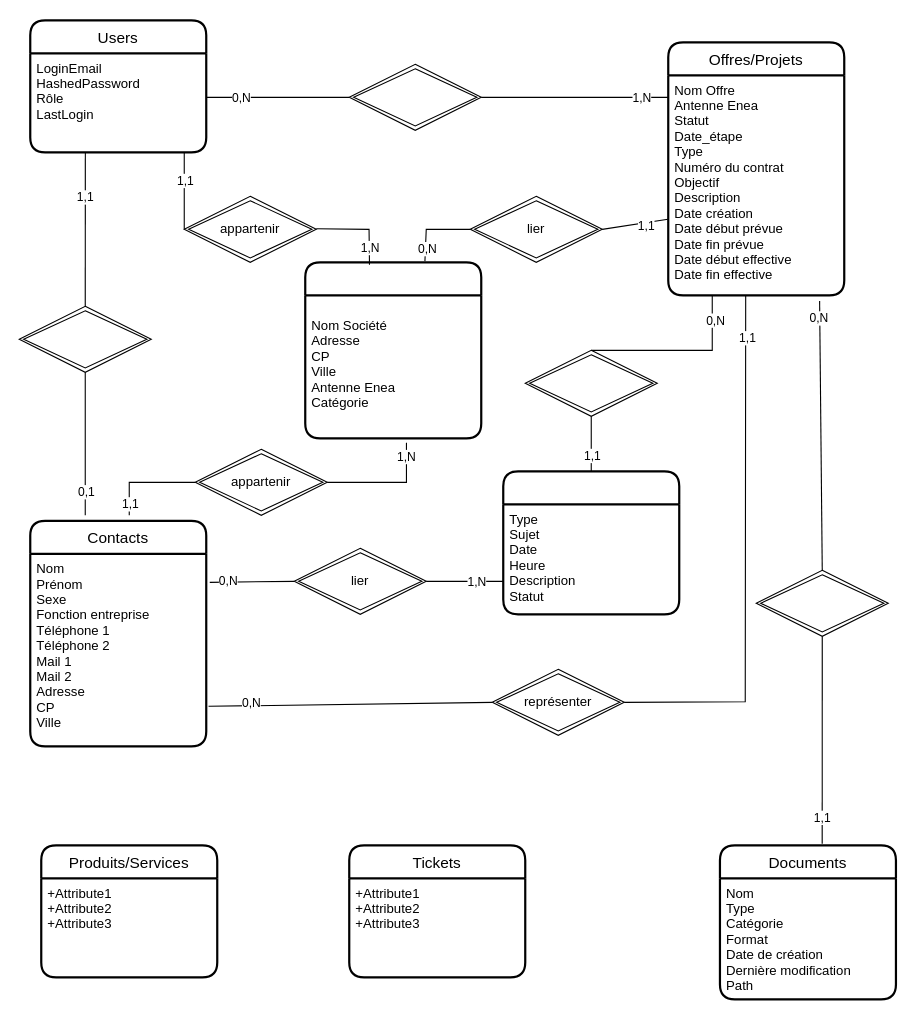
Image size: 916x1019. Some labels were removed from this diagram. Each missing label, with the box of its shape:
associer à: (524, 349, 657, 416)
définir: (18, 305, 151, 372)
gérer: (348, 63, 481, 130)
Interactions: (502, 470, 680, 615)
Sociétés: (304, 261, 482, 439)
utiliser: (755, 569, 888, 636)
